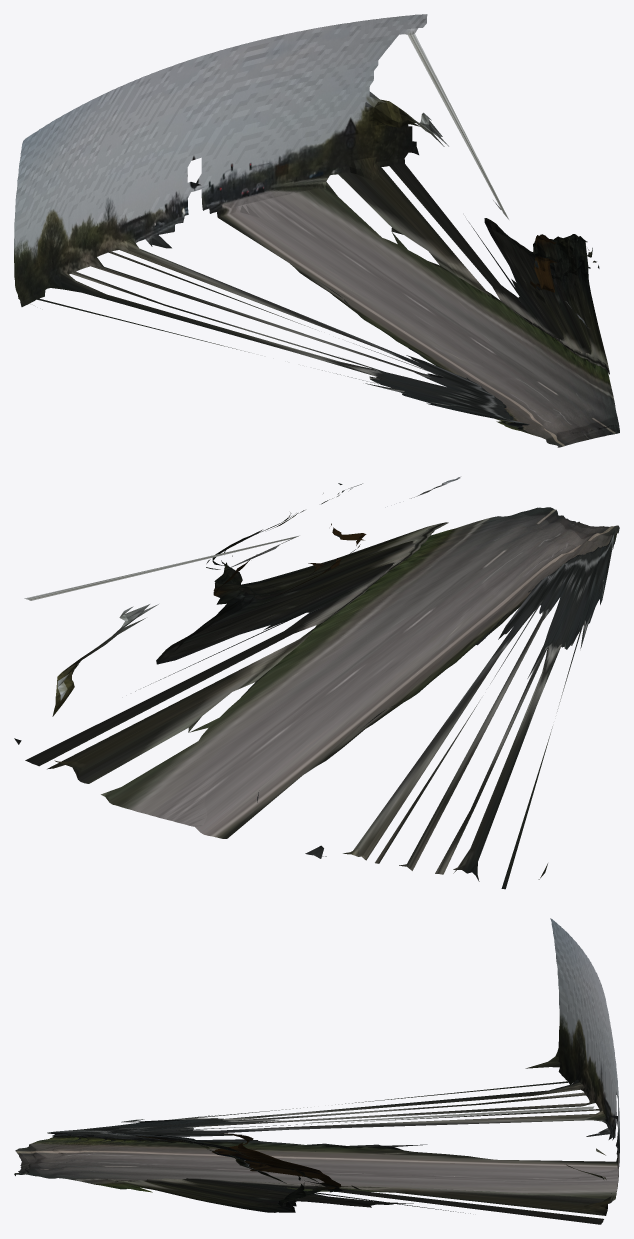
3 renders of one model, top to bottom at view 1: azimuth 30°, elevation 25°; view 2: azimuth 150°, elevation 25°; view 3: azimuth 270°, elevation 25°, orthographic. The views are drawn at different scales.
Parts seen in each view (by area): view 1: defaultobject; view 2: defaultobject; view 3: defaultobject.
Boxes of the visible parts, left/top/right/bottom form: defaultobject: left=14, top=14, right=619, bottom=447; defaultobject: left=14, top=477, right=619, bottom=889; defaultobject: left=14, top=918, right=619, bottom=1224.
Bounding box in the file's own units: 32.67 × 13.3 × 44.77.
Materials: 1 (1 with a texture image).
